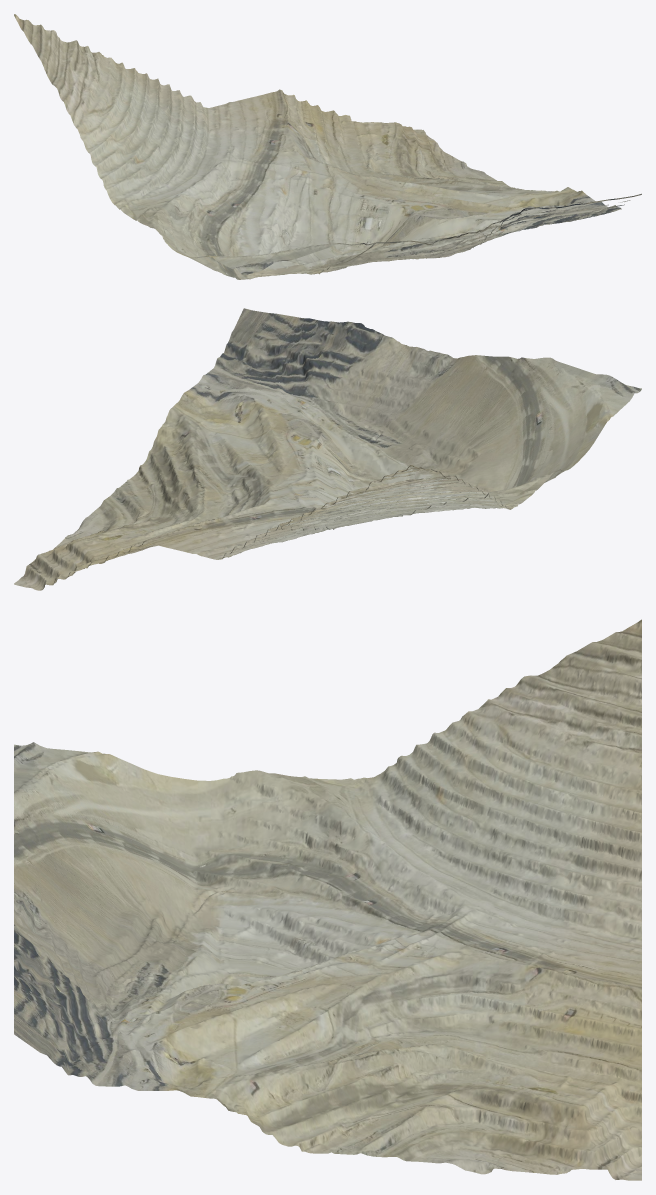
3 renders of one model, top to bottom at view 1: azimuth 30°, elevation 25°; view 2: azimuth 150°, elevation 25°; view 3: azimuth 270°, elevation 25°, orthographic. The views are drawn at different scales.
Parts seen in each view (by area): view 1: l2-1-1; view 2: l2-1-1; view 3: l2-1-1.
Boxes of the visible parts, bbox=[...] form: l2-1-1: bbox=[14, 14, 641, 279]; l2-1-1: bbox=[14, 308, 641, 590]; l2-1-1: bbox=[14, 619, 641, 1180].
Bounding box in the file's own units: 768 × 400 × 768.
Materials: 1 (1 with a texture image).
